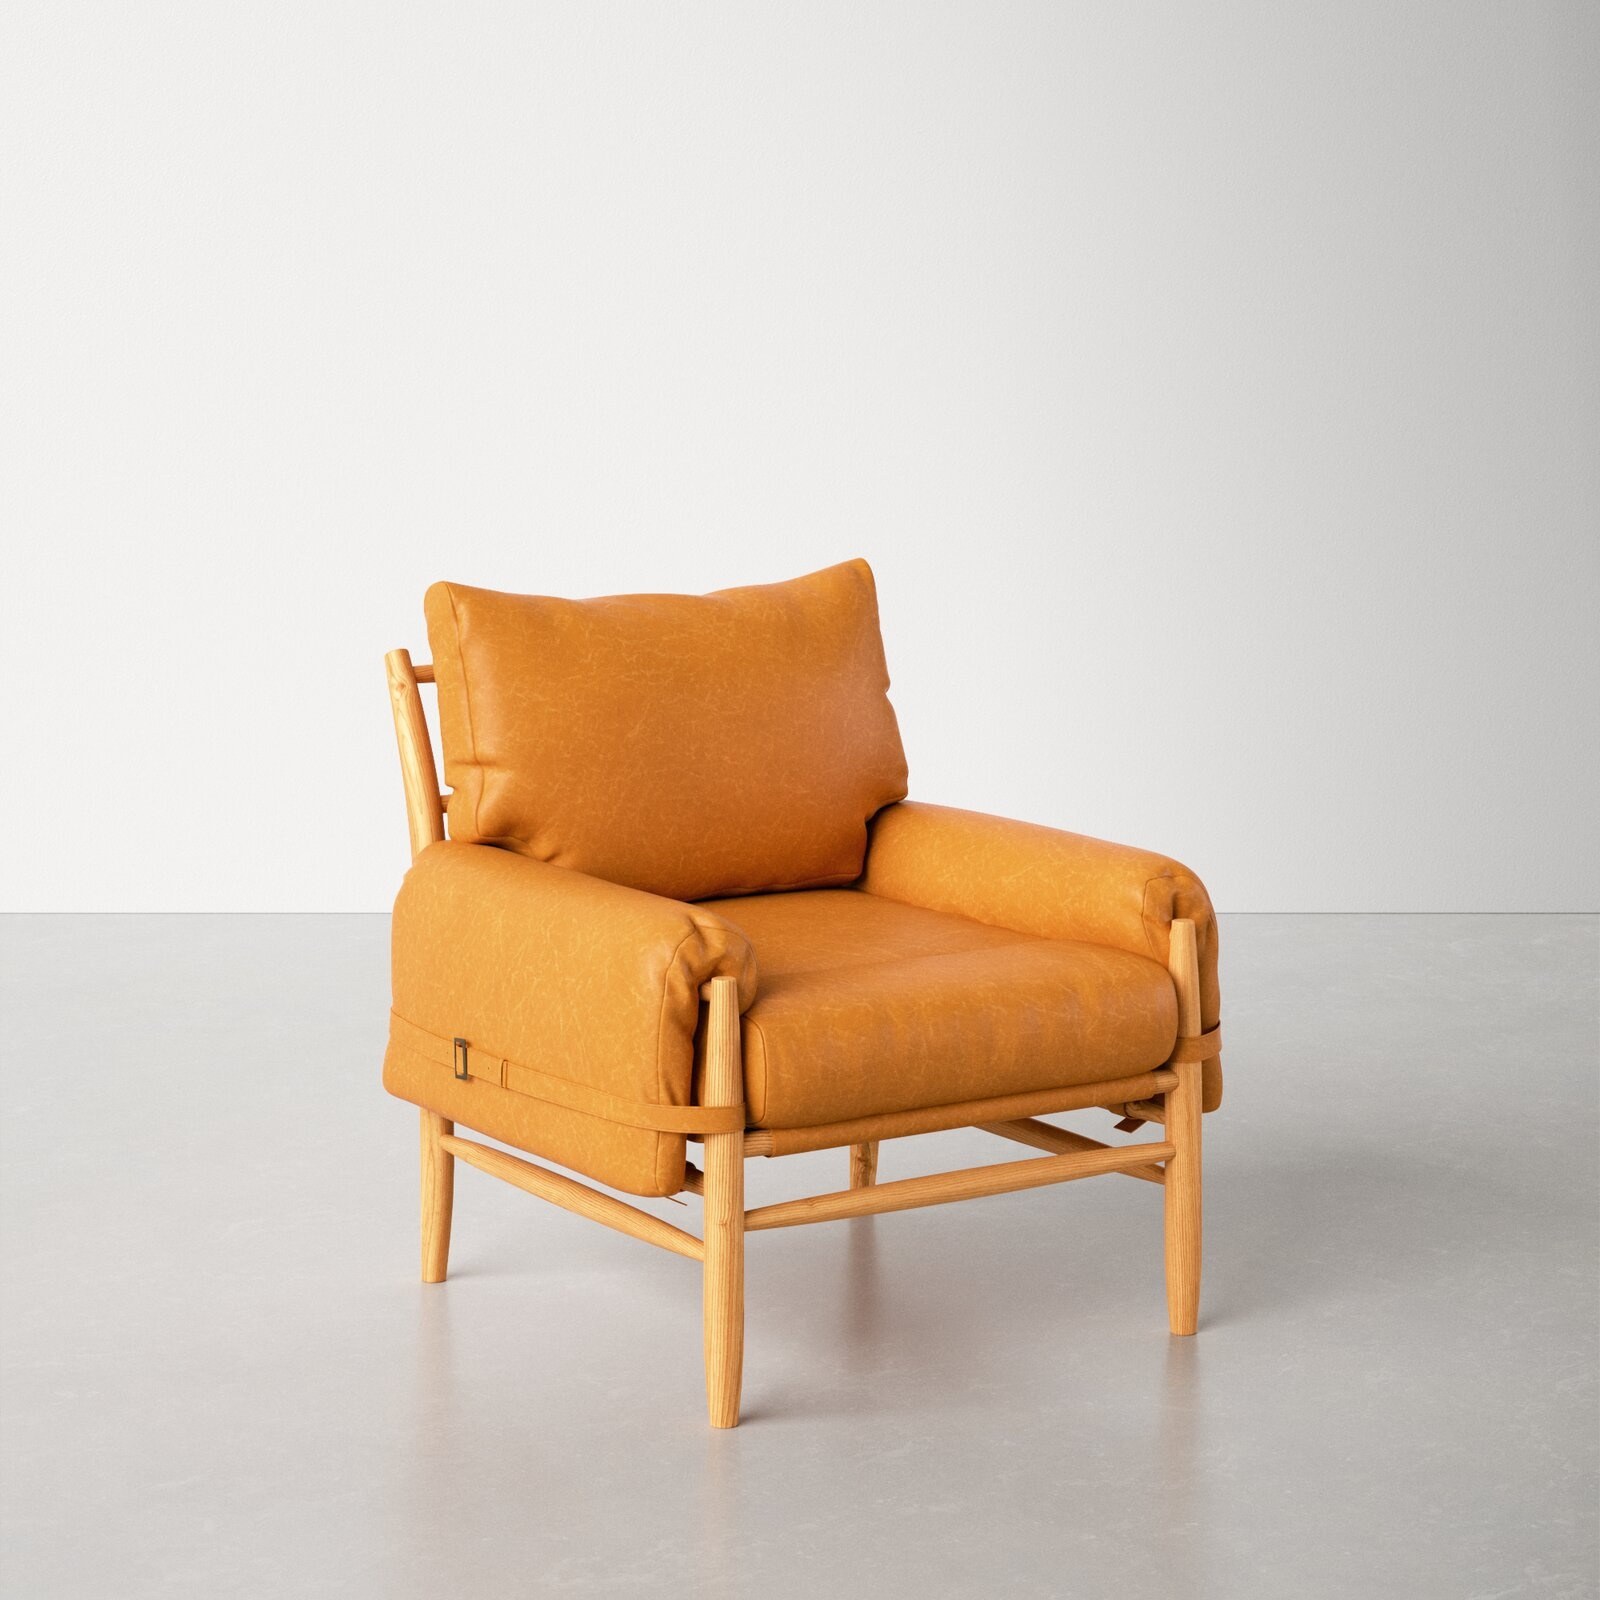obstacle: (384, 560, 1221, 1426)
